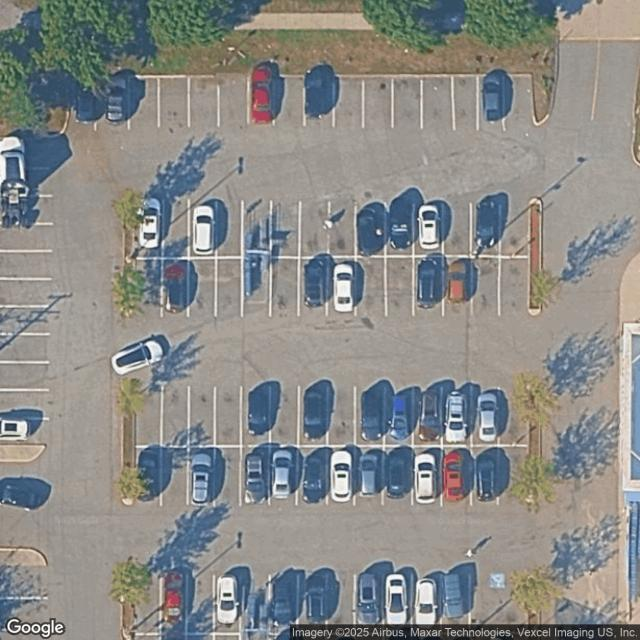car: (250, 64, 275, 124), (162, 571, 186, 632), (442, 452, 469, 501), (244, 450, 269, 502), (483, 72, 508, 121), (303, 391, 327, 441), (386, 448, 410, 497), (357, 449, 381, 497), (332, 264, 356, 311), (359, 392, 382, 441), (138, 448, 160, 499), (247, 391, 271, 436), (442, 577, 466, 622), (478, 394, 500, 442), (306, 260, 328, 308), (305, 452, 326, 502), (390, 394, 413, 439), (74, 75, 96, 122), (165, 265, 187, 312), (420, 392, 441, 441), (306, 71, 328, 117), (391, 200, 412, 248), (106, 74, 126, 124), (476, 199, 496, 249), (416, 453, 436, 503), (306, 574, 327, 621), (387, 576, 408, 623), (194, 206, 214, 255), (273, 447, 293, 496), (275, 574, 294, 625), (448, 260, 470, 304), (418, 203, 439, 249), (418, 262, 439, 308), (448, 394, 467, 444), (139, 200, 159, 247), (359, 214, 381, 255), (219, 575, 237, 625), (361, 574, 378, 626), (416, 580, 436, 624), (476, 456, 496, 499), (334, 452, 350, 500), (194, 451, 208, 504), (0, 418, 29, 440)
lot_boundary: (0, 71, 531, 640)
objects: (244, 200, 272, 316), (242, 573, 272, 634), (120, 383, 133, 505), (122, 196, 133, 314), (120, 566, 132, 640), (0, 549, 45, 568)
stall: (472, 570, 526, 625), (297, 572, 328, 632), (443, 383, 472, 446), (97, 76, 130, 131), (356, 256, 386, 316), (440, 569, 470, 629), (501, 382, 530, 444), (356, 570, 385, 632), (422, 74, 454, 130), (355, 386, 385, 445), (134, 444, 162, 507), (501, 444, 529, 507), (242, 388, 272, 446), (386, 384, 414, 446), (157, 77, 190, 129), (503, 72, 532, 131), (189, 386, 217, 447), (162, 385, 189, 448), (188, 75, 220, 128), (415, 258, 444, 316), (444, 256, 473, 314), (443, 448, 472, 506), (162, 200, 190, 260), (300, 386, 328, 446), (415, 385, 443, 445), (271, 575, 299, 635), (134, 385, 161, 447), (300, 199, 328, 258), (213, 575, 241, 634), (328, 387, 356, 446), (384, 202, 414, 257), (442, 201, 472, 256), (134, 570, 160, 633), (500, 199, 528, 257), (242, 446, 270, 504), (414, 446, 442, 504), (386, 256, 413, 316), (357, 444, 384, 504), (329, 200, 357, 257), (473, 256, 501, 313), (299, 447, 327, 504), (356, 202, 385, 257), (471, 201, 500, 256), (135, 200, 162, 259), (162, 447, 189, 506), (334, 74, 364, 127), (0, 168, 53, 198), (472, 445, 498, 506), (190, 573, 216, 634), (500, 256, 528, 312), (392, 75, 421, 129), (477, 73, 504, 131), (0, 222, 52, 252), (386, 444, 412, 504), (329, 571, 355, 631), (386, 571, 412, 631), (0, 597, 50, 628), (475, 383, 500, 445), (271, 202, 299, 257), (1, 140, 56, 168), (189, 259, 216, 316), (414, 203, 443, 256), (134, 257, 160, 316), (216, 387, 242, 446), (272, 387, 298, 446), (414, 569, 440, 628), (0, 250, 51, 280), (330, 257, 355, 318), (130, 76, 158, 130), (220, 76, 249, 128), (0, 195, 52, 224), (216, 257, 242, 315), (301, 258, 327, 316), (329, 447, 355, 505), (161, 574, 186, 634), (190, 447, 214, 509), (0, 305, 49, 335), (276, 74, 304, 126), (365, 75, 393, 127), (190, 203, 216, 259), (0, 334, 52, 362), (270, 448, 296, 504), (273, 256, 297, 316), (217, 202, 243, 257), (0, 278, 49, 307), (163, 261, 188, 317), (1, 360, 48, 389), (307, 74, 333, 126), (0, 390, 46, 419), (453, 76, 478, 128), (218, 446, 240, 504), (73, 75, 95, 132), (250, 75, 274, 127), (1, 571, 48, 597), (0, 417, 48, 440)
